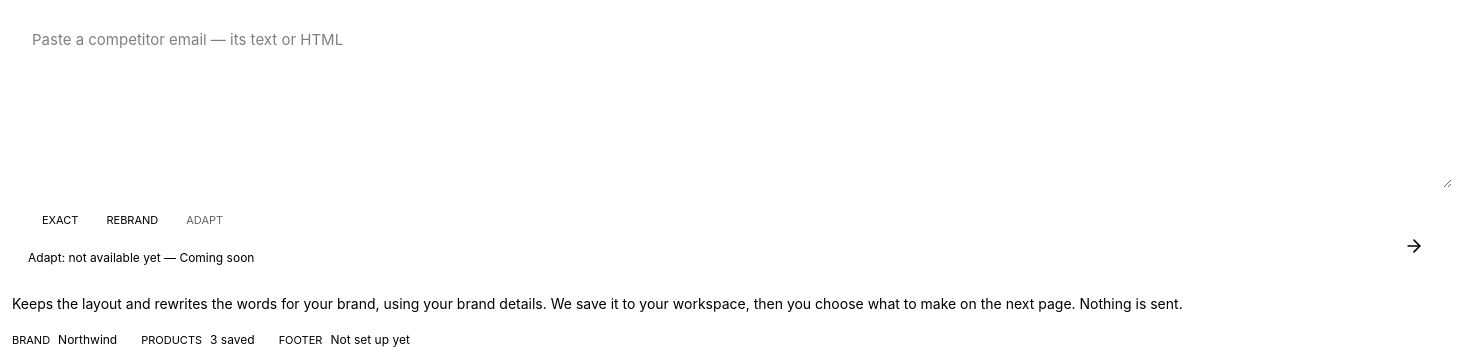
Composer › blocks a pasted link and explains why
Type "https://brand.example/email" into the text box labelled "Paste a competitor email" at (732, 100), box [12,12,1452,188]
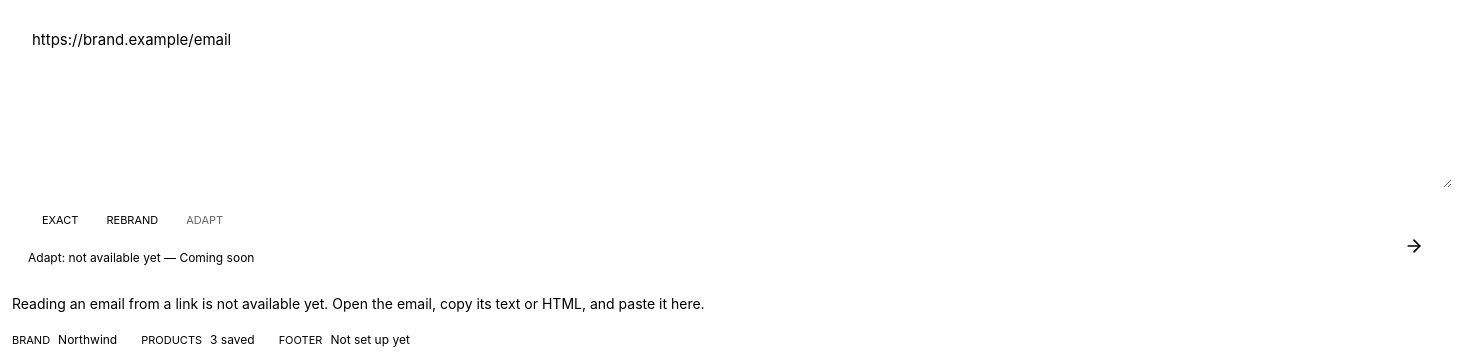
Expected: the button named "Create my version" is disabled, [1392,224,1436,268]
Result: the text "link is not available yet" is shown at [12,295,705,312]
